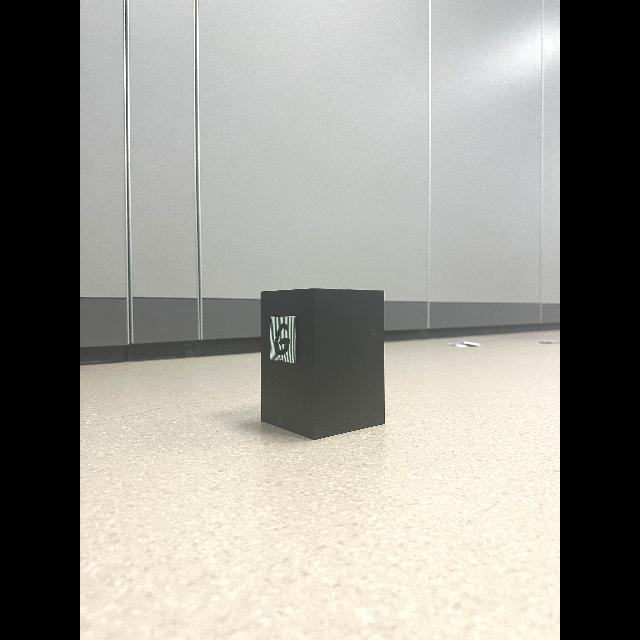G: (274, 323, 291, 355)
